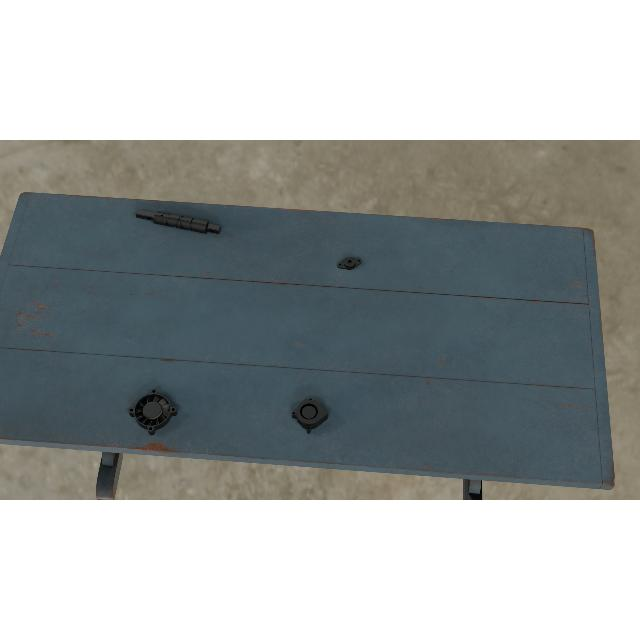Pieza1: (134, 205, 222, 239)
Pieza2: (336, 254, 364, 272)
Pieza3: (290, 395, 328, 435)
Pieza4: (126, 387, 180, 437)
